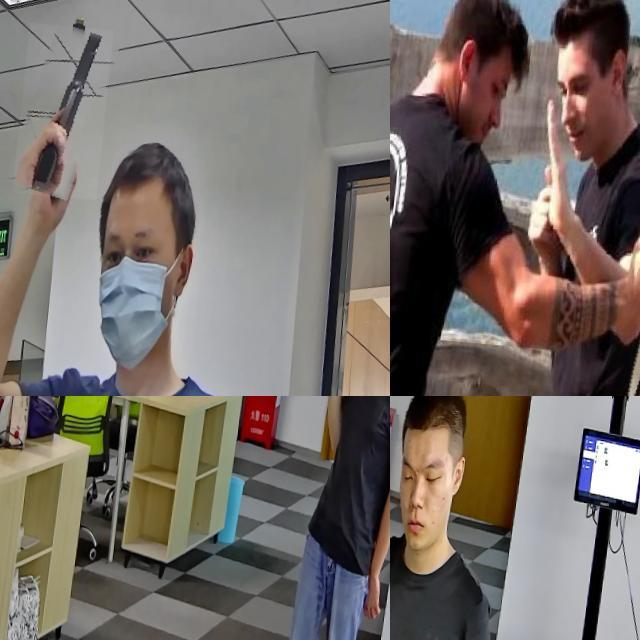-: (613, 204, 640, 396)
gun-knife-thesis - v11 Yolov5 augmented: (20, 19, 118, 195), (390, 483, 440, 593), (291, 396, 351, 440)
